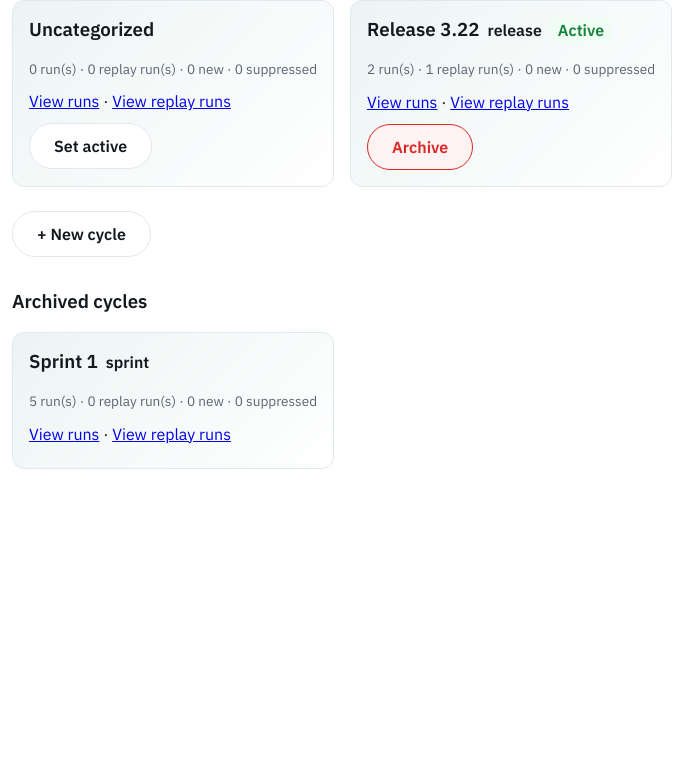
Test: CycleList (run-cycles-spec.md §4 — cycle management + overview, one unified page) › empty Name on submit: shows real inline error text, marks the field aria-invalid, and focuses it
Check: the heading "Release 3.22 release Active" is shown, box [367, 17, 655, 42]
Step 1. Click the button "+ New cycle" → coordinates (81, 234), box [12, 211, 151, 257]
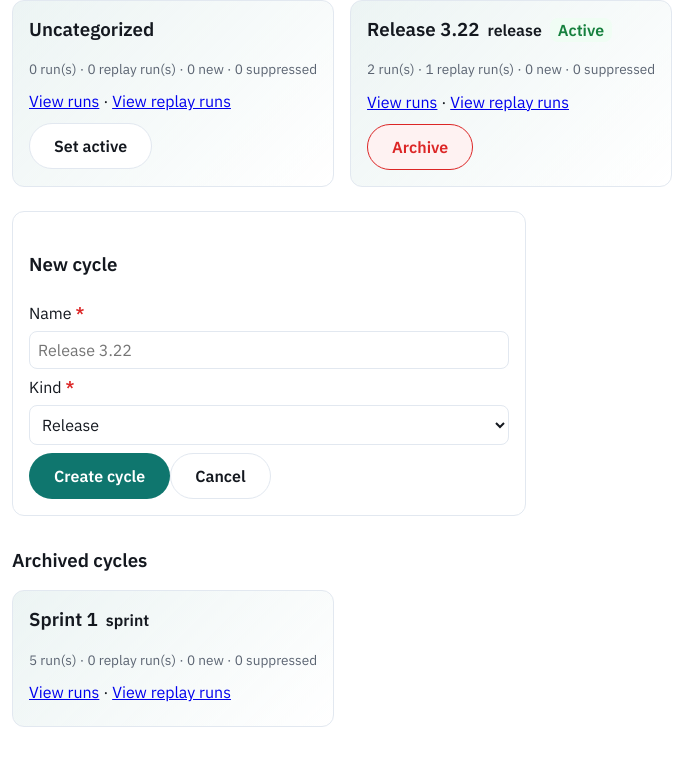
Step 2. Click the button "Create cycle" → coordinates (100, 476), box [29, 453, 170, 499]
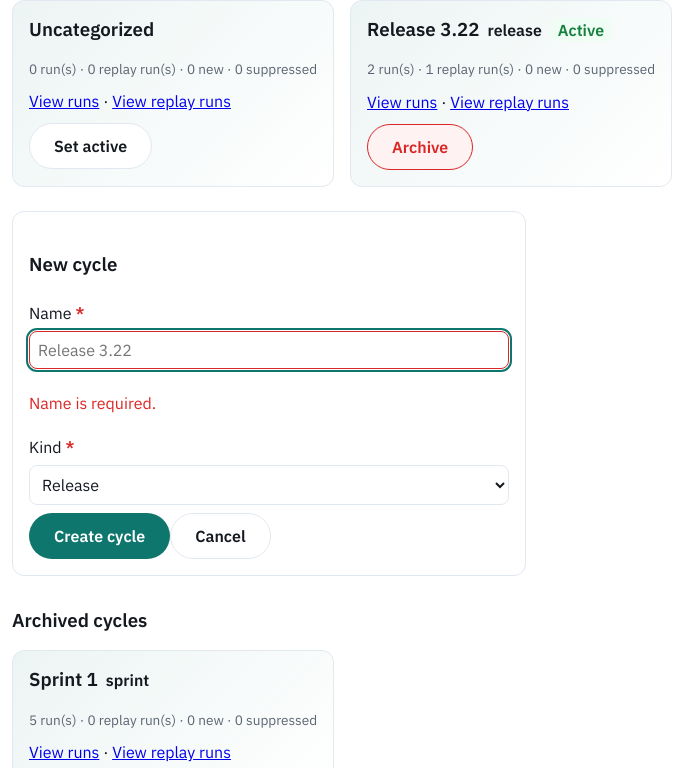
Check: the text "Name is required." is shown, box [29, 393, 156, 413]
